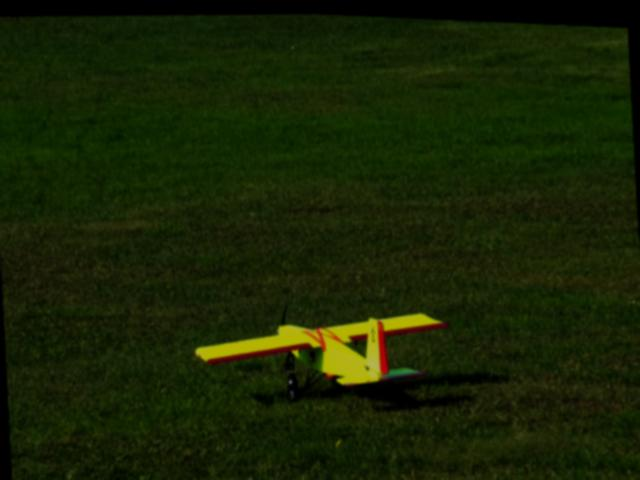plane: (194, 299, 454, 406)
